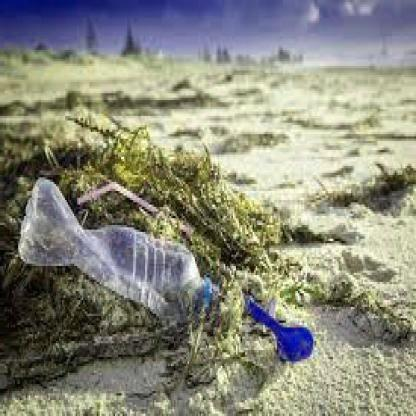Plastic: (15, 174, 215, 313), (247, 296, 318, 364)
